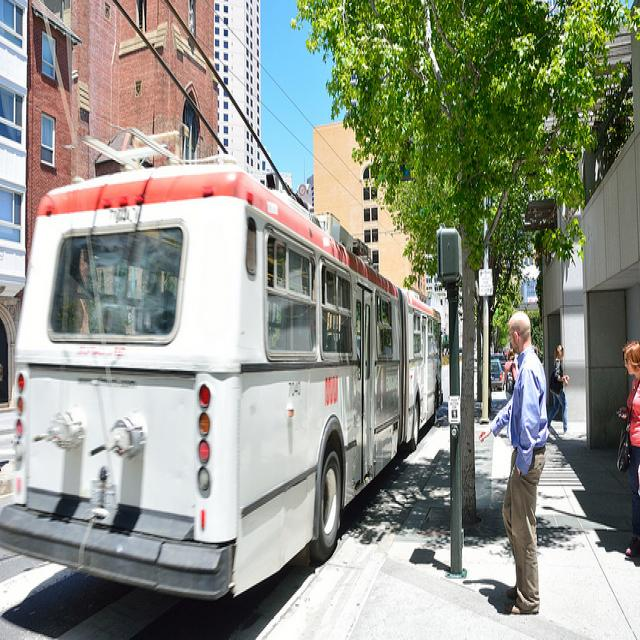AB: (6, 142, 447, 610)
